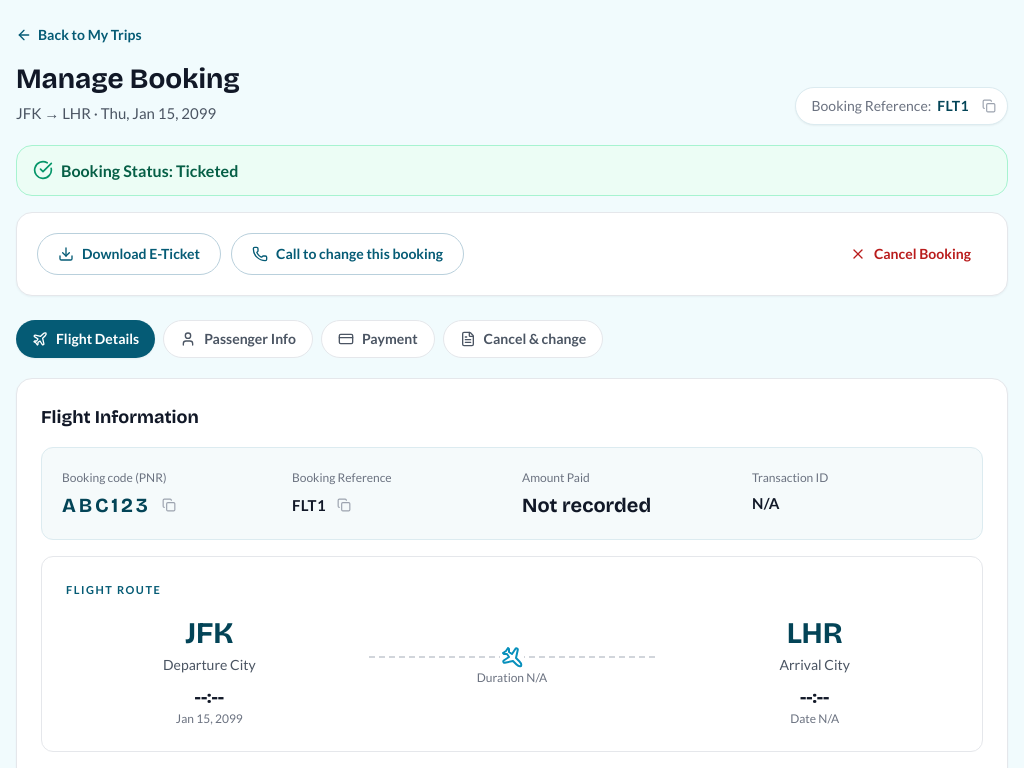
Test: the e-ticket on Manage Booking › says why when the ticket can't be downloaded
This screenshot has width=1024, height=768.
Step 1. Click the button "Download E-Ticket" → {"x": 129, "y": 254}, box x1=37 y1=233 x2=221 y2=275
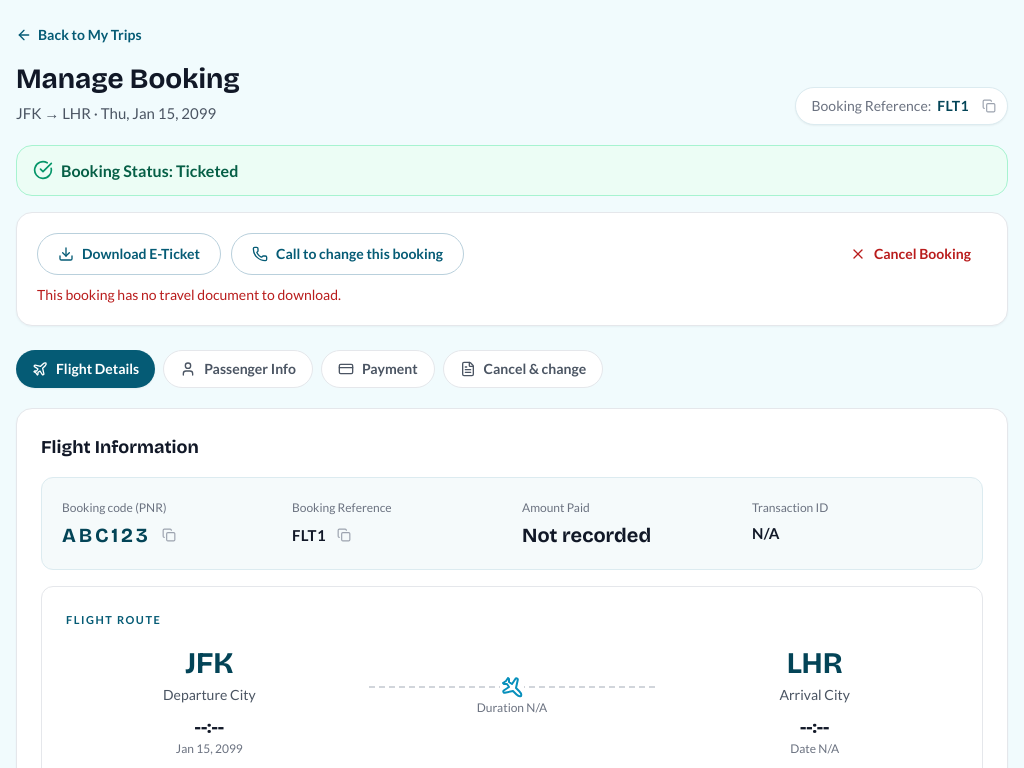
Now the text "This booking has no travel document to download." is shown, box x1=37 y1=286 x2=341 y2=303
